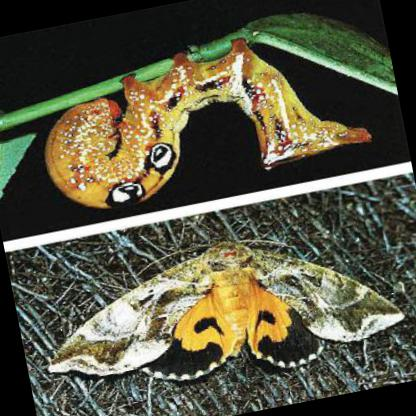fruit sucking moth: (45, 240, 406, 383)
